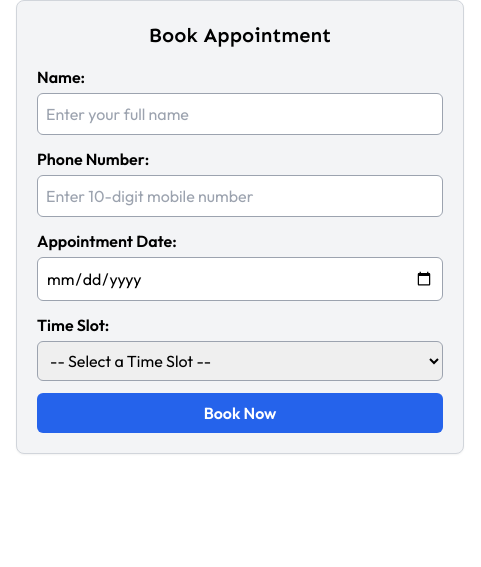
Test: AppointmentForm › shows validation errors when submitting empty booking form
Click the button "Book Now". click: (240, 413)
box: [37, 393, 443, 433]
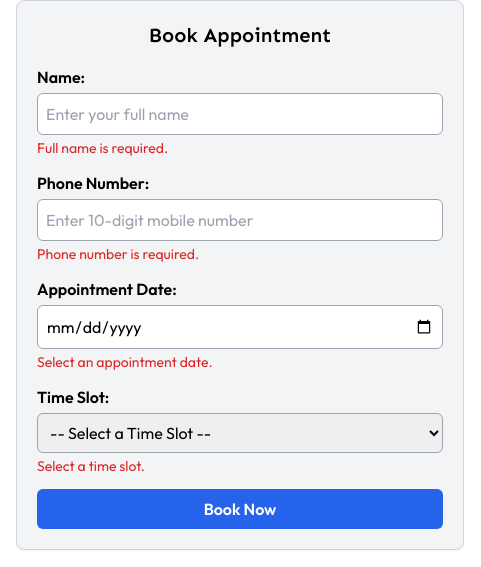
Now the text "Full name is required." is shown, box [37, 139, 168, 157]
Now the text "Phone number is required." is shown, box [37, 245, 199, 263]
Now the text "Select an appointment date." is shown, box [37, 353, 212, 371]
